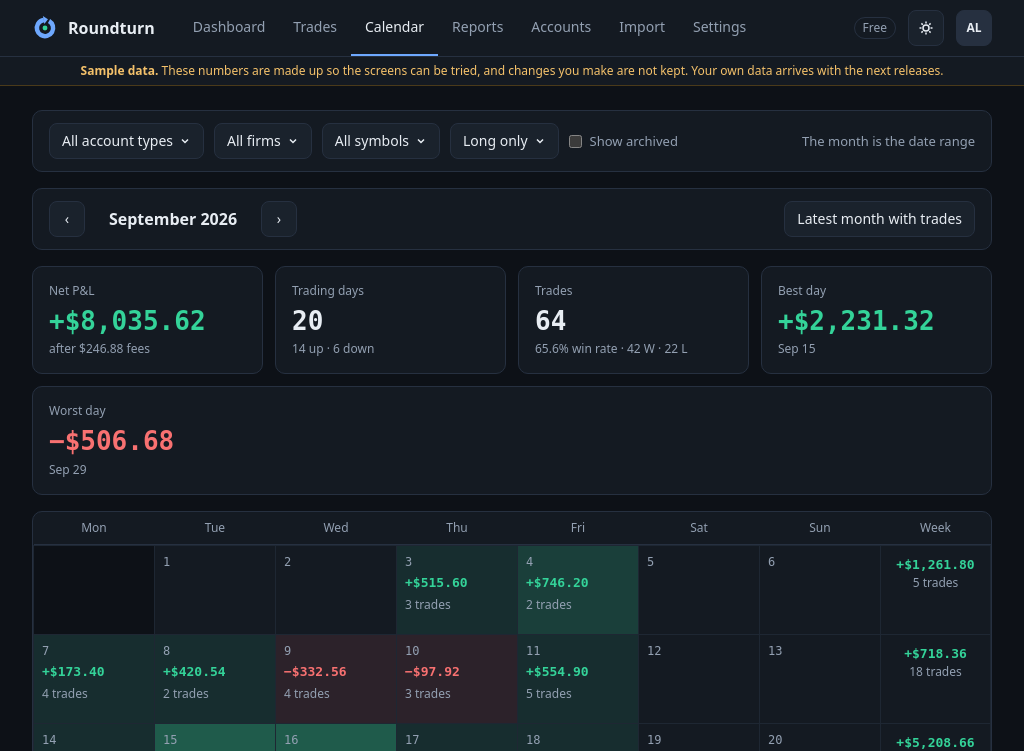
it: moving between months › pages by month, writes the month to the address and keeps the filters
Click the button named "Next month" at (279, 219), box [261, 201, 297, 237]
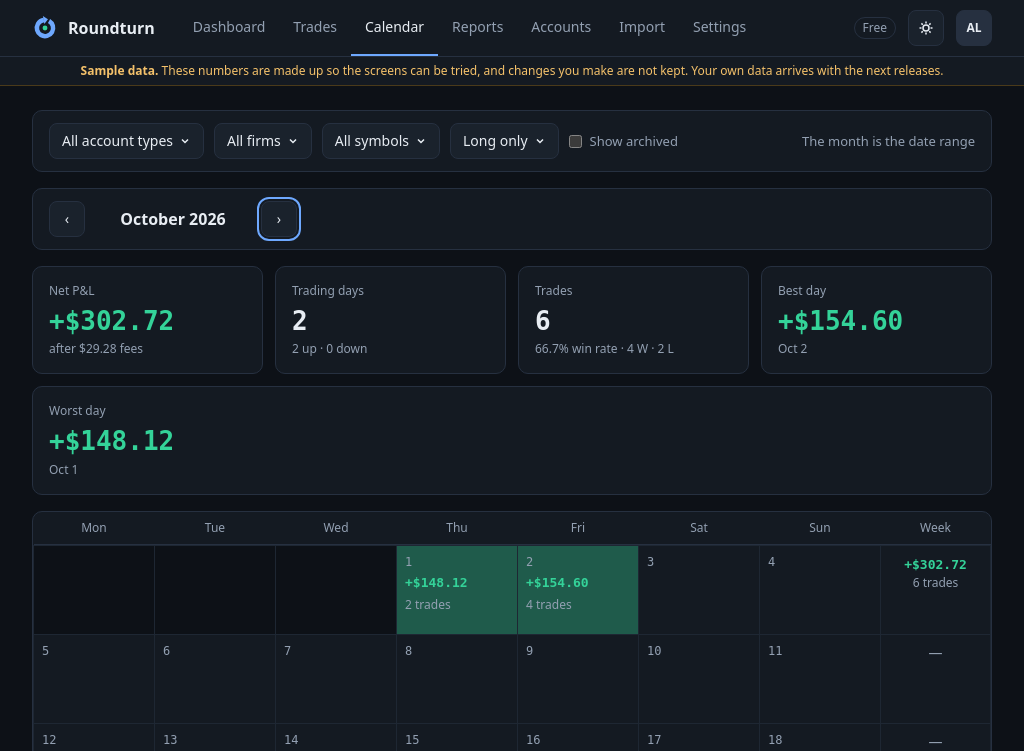
Result: the heading "October 2026" is shown at [120, 208, 226, 230]
Click the button named "Previous month" at (67, 219), box [49, 201, 85, 237]
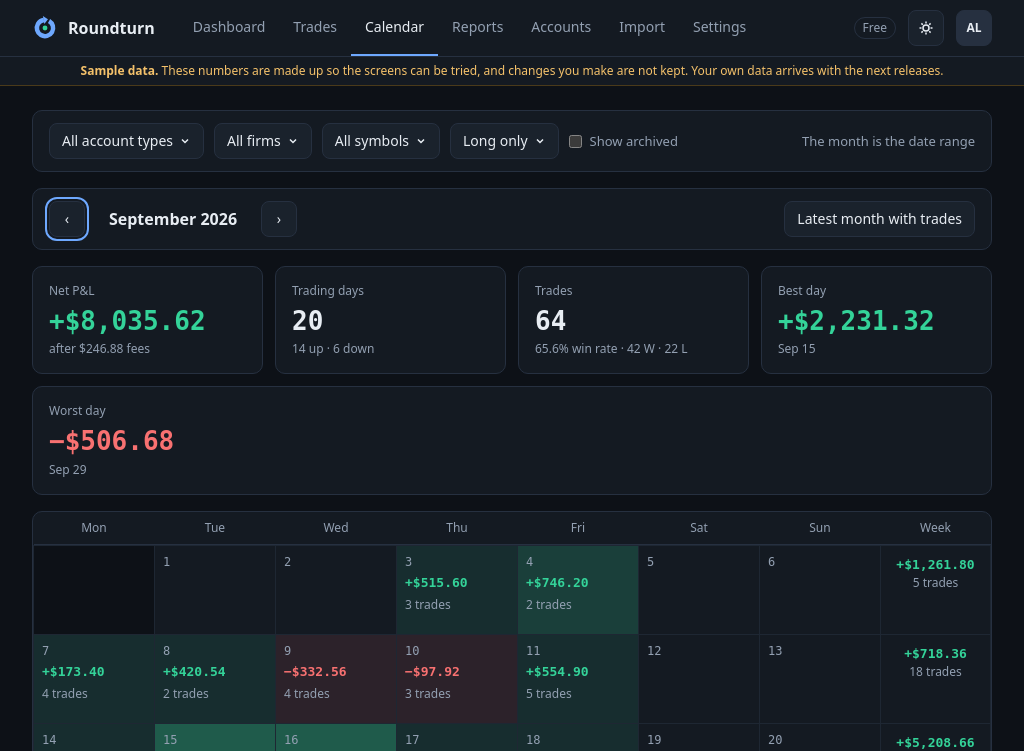
Click the button named "Previous month" at (67, 219), box [49, 201, 85, 237]
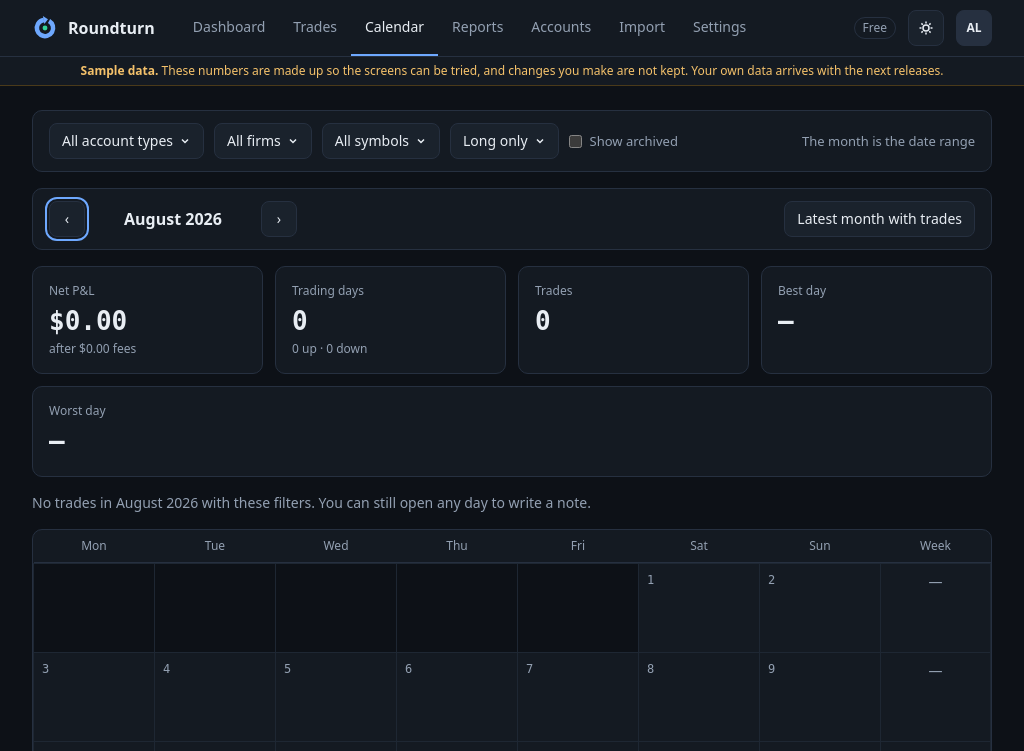
Result: the heading "August 2026" is shown at [124, 208, 222, 230]
